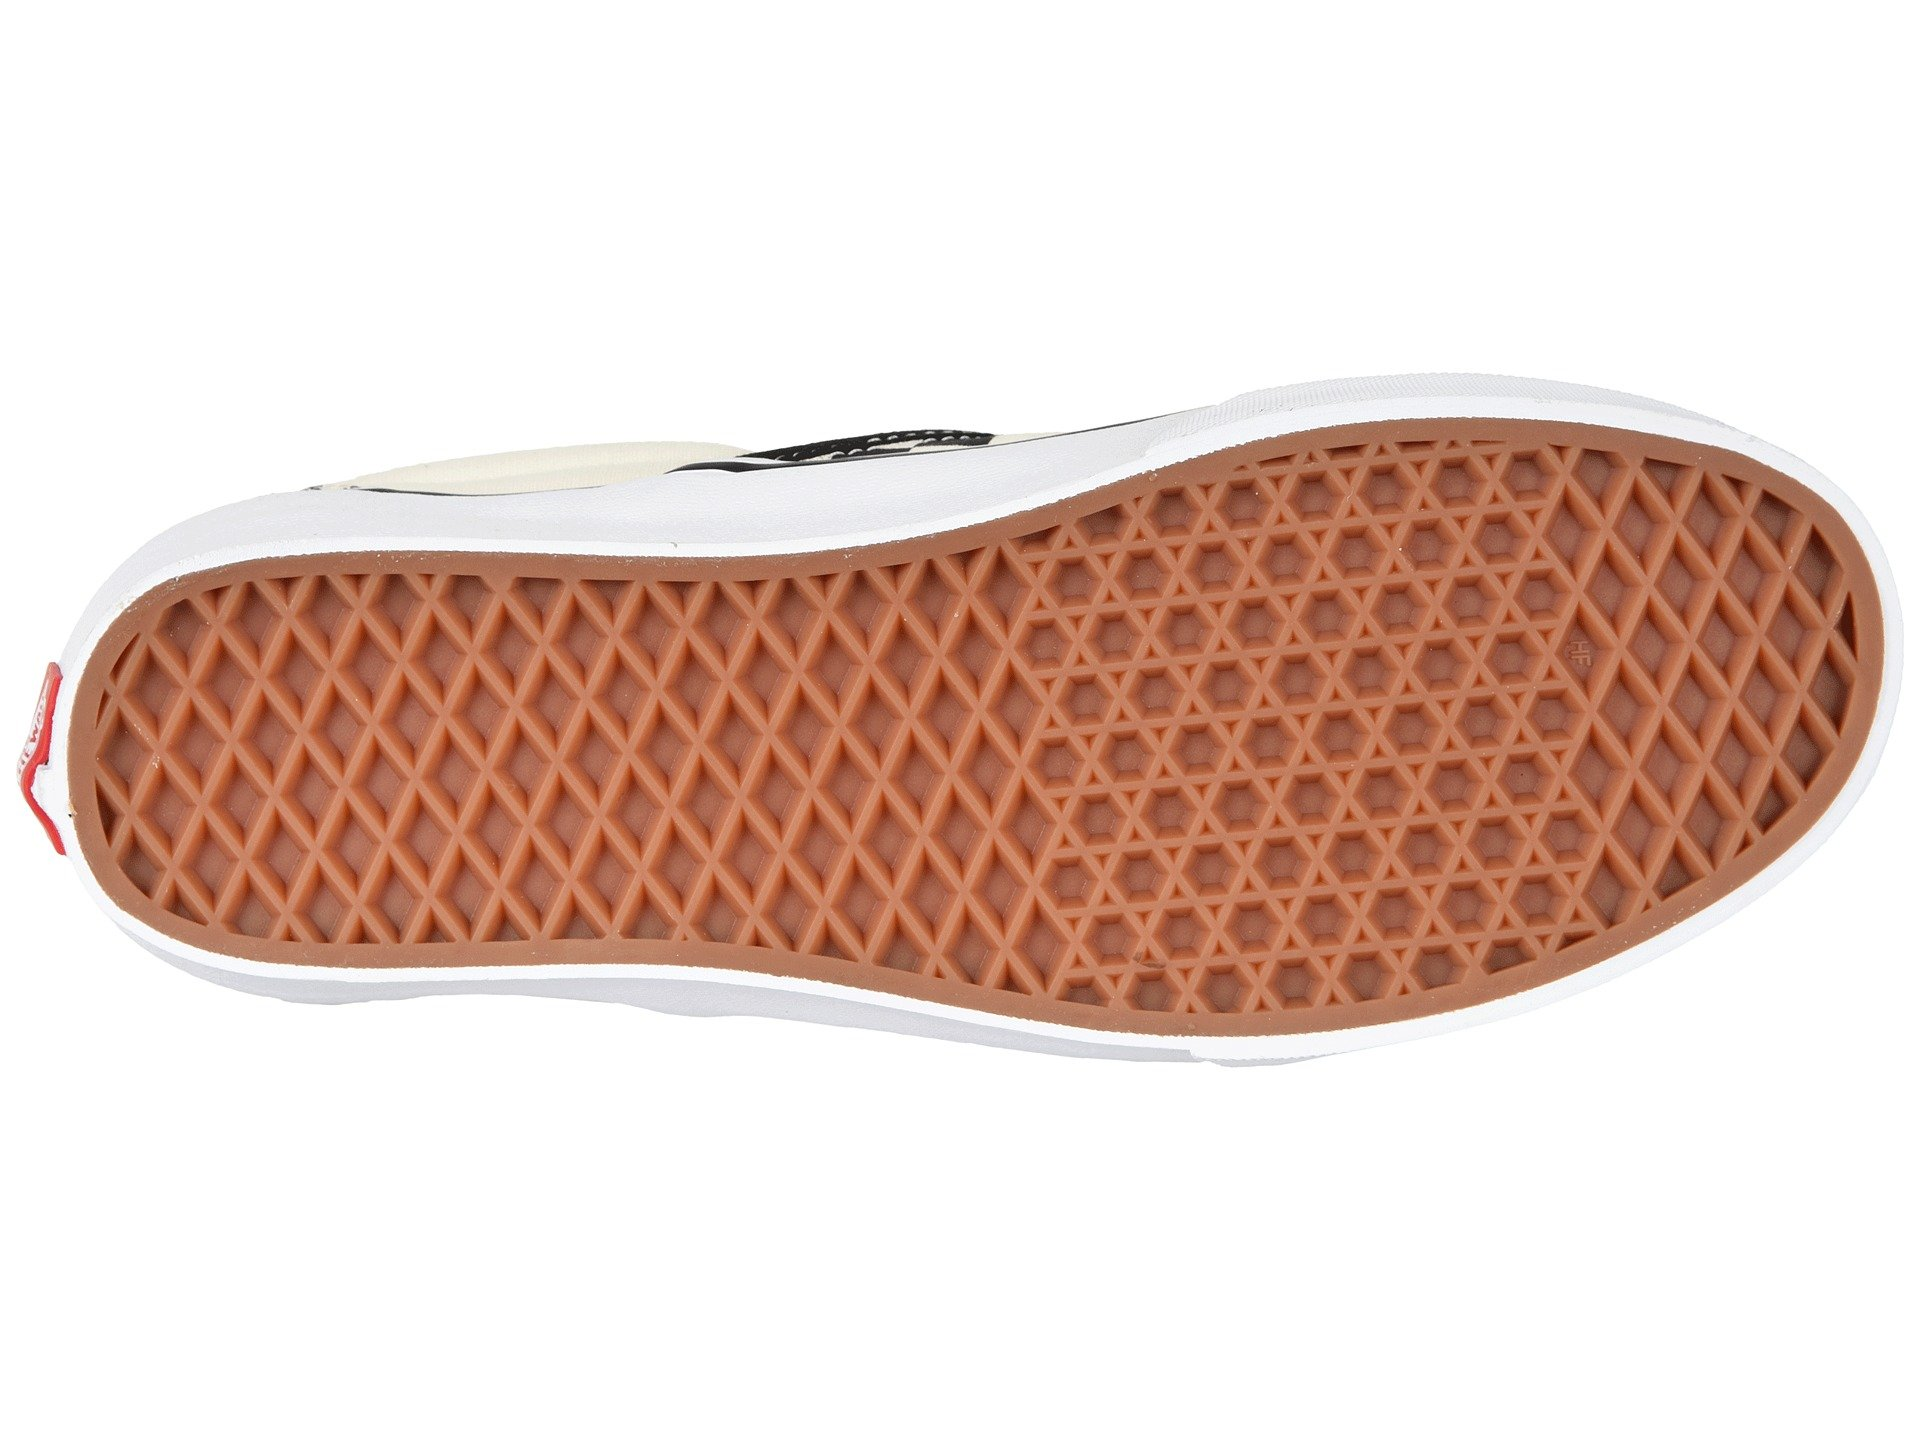polygon: (1005, 141, 1327, 610), (1336, 349, 1556, 567), (1339, 115, 1538, 334)
quad: (509, 175, 887, 517), (116, 209, 497, 498), (1556, 144, 1801, 424)
triangle: (1005, 141, 1327, 610), (1336, 349, 1556, 567), (1339, 115, 1538, 334)
